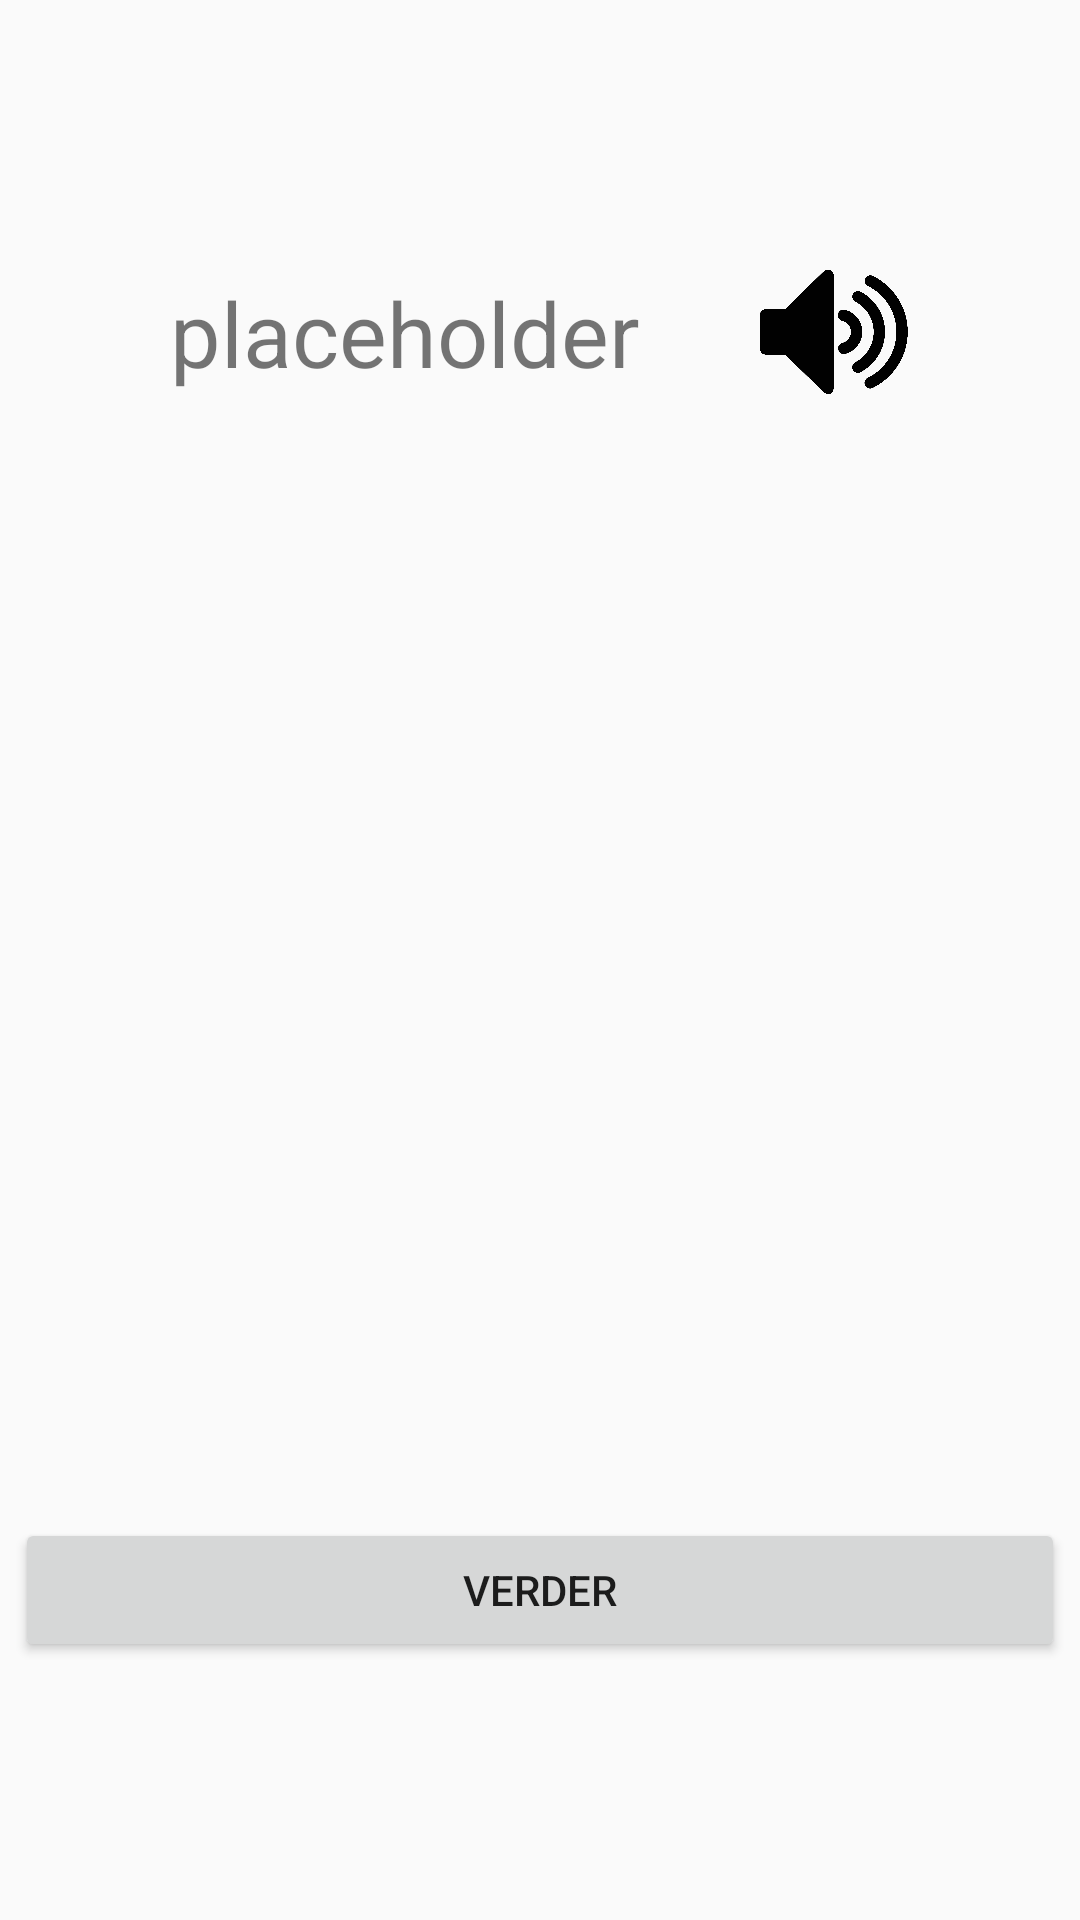

Locate icon controls on the screen. Image size 1080w x 1920h, boxes as [left=x1, top=y1, right=x2, bottom=y2].
audioicon: [left=760, top=270, right=908, bottom=394]
